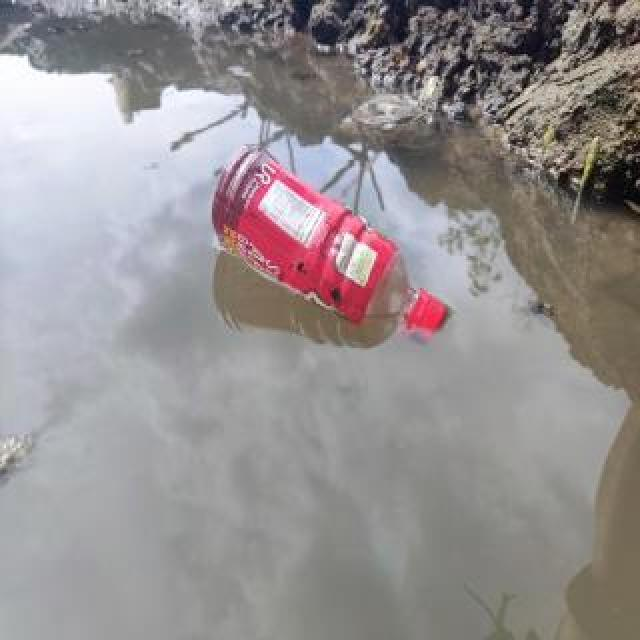bottle: (205, 136, 449, 346)
